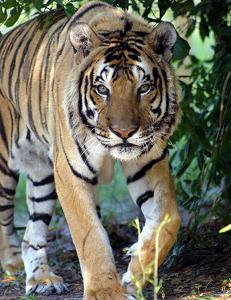Tigre: (11, 24, 188, 172)
